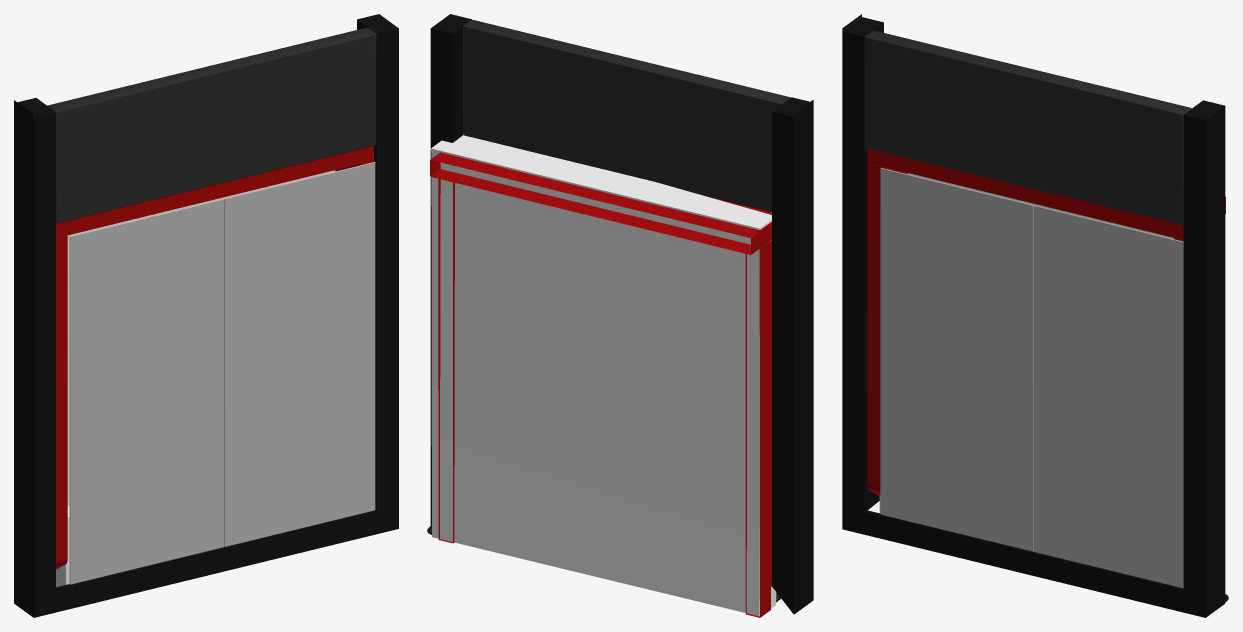
Rendered from Shop_sport_shoes.FBX.
3 renders of one model, left to right at view 1: azimuth 30°, elevation 25°; view 2: azimuth 150°, elevation 25°; view 3: azimuth 330°, elevation 25°, orthographic.
Parts seen in each view (by area): view 1: vm_v3_063_Glass, Object002; view 2: Object002; view 3: vm_v3_063_Glass, Object002.
Boxes of the visible parts, box(x1,y1,x2,y2) form: vm_v3_063_Glass: box(69, 162, 375, 584); Object002: box(14, 14, 398, 617); Object002: box(427, 14, 813, 617); vm_v3_063_Glass: box(880, 168, 1183, 588); Object002: box(842, 14, 1228, 617).
Bounding box in the file's own units: 318 × 420 × 61.37.
